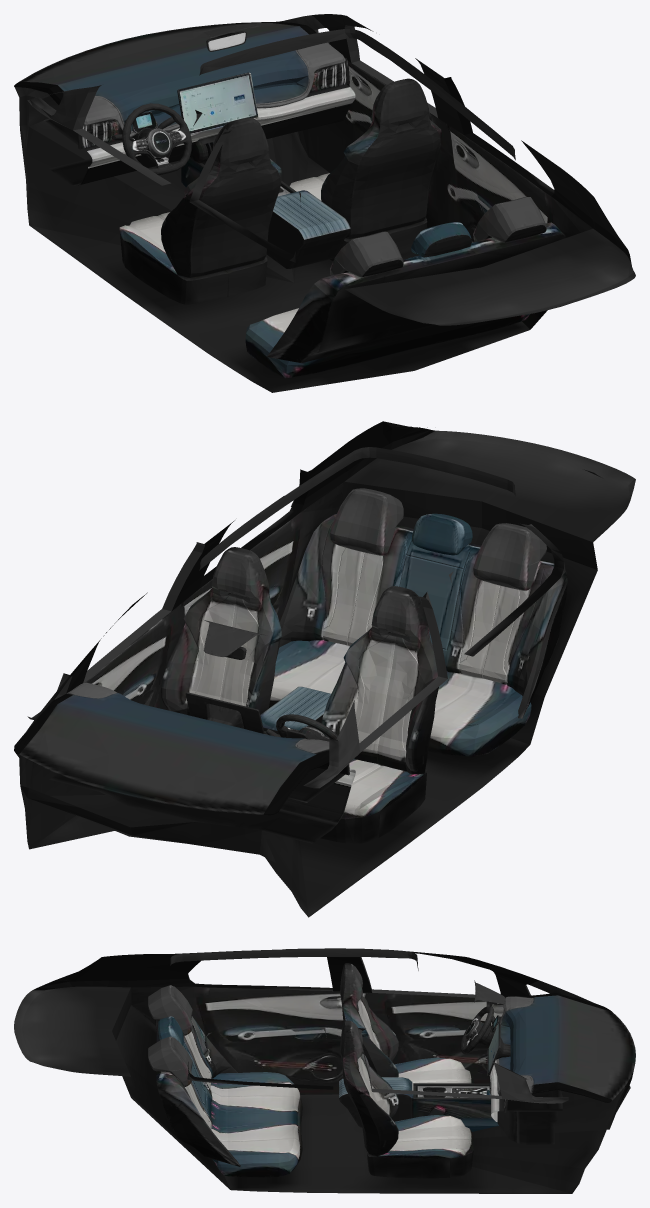
The model's file is interior.glb.
The picture shows the model from 3 angles, top to bottom: view 1: azimuth 30°, elevation 25°; view 2: azimuth 150°, elevation 25°; view 3: azimuth 270°, elevation 25°; orthographic projection. The views are drawn at different scales.
Visible parts, largest first — view 1: Interior; view 2: Interior; view 3: Interior.
Boxes of the visible parts, left/top/right/bottom form: Interior: left=14, top=14, right=635, bottom=392; Interior: left=14, top=421, right=635, bottom=917; Interior: left=14, top=948, right=635, bottom=1193.
Bounding box in the file's own units: 1.41 × 1.05 × 3.55.
Materials: 1 (1 with a texture image).
